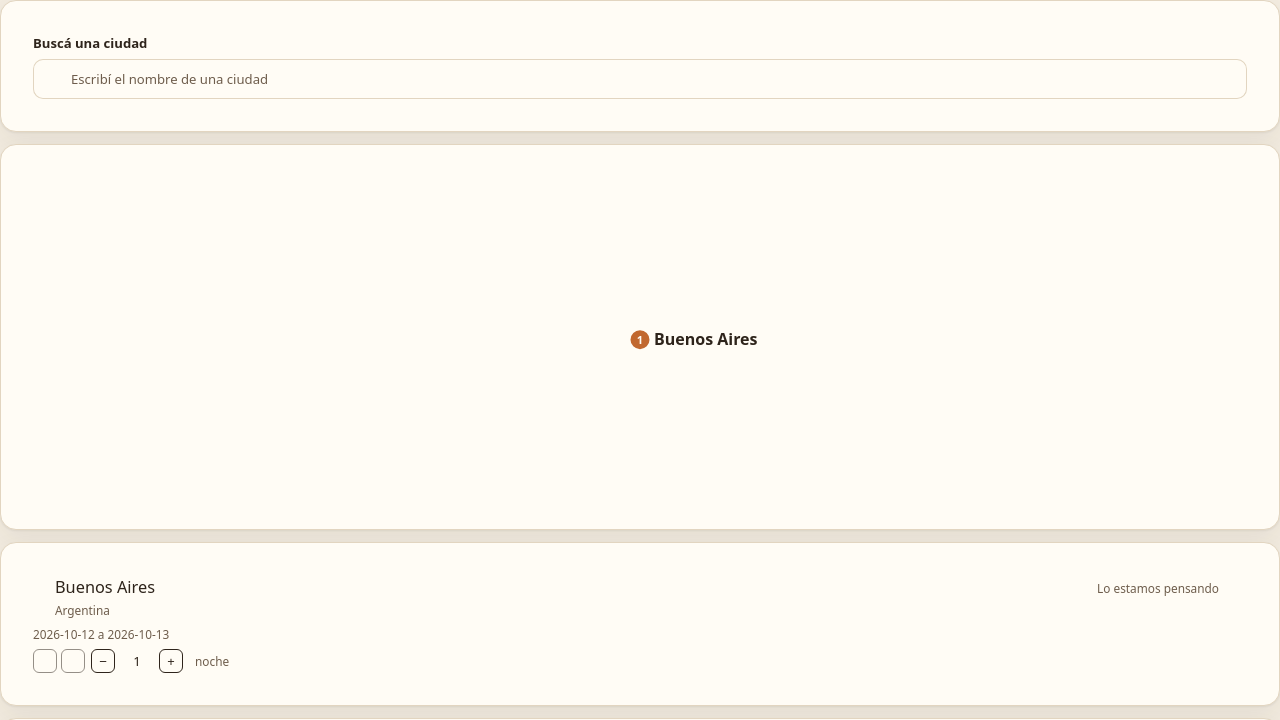
Test case: RutaPanel › clicking status chip cycles through states
# Click to cycle to "urgent"
Step 1. Click the button "Lo estamos pensando" → (1158, 588), box top-left (1091, 575), bottom-right (1225, 602)
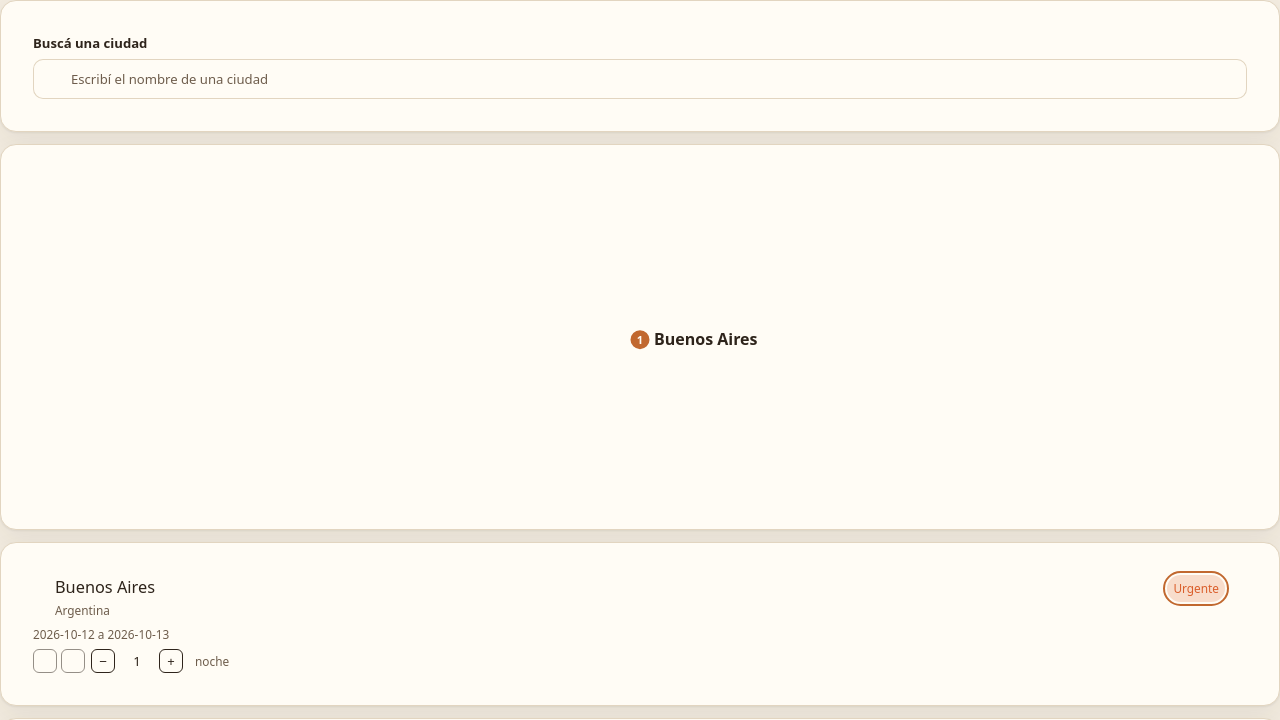
Result: the button "Urgente" is shown
# Click to cycle to "booked"
Step 2. Click the button "Urgente" → (1196, 588), box top-left (1167, 575), bottom-right (1225, 602)
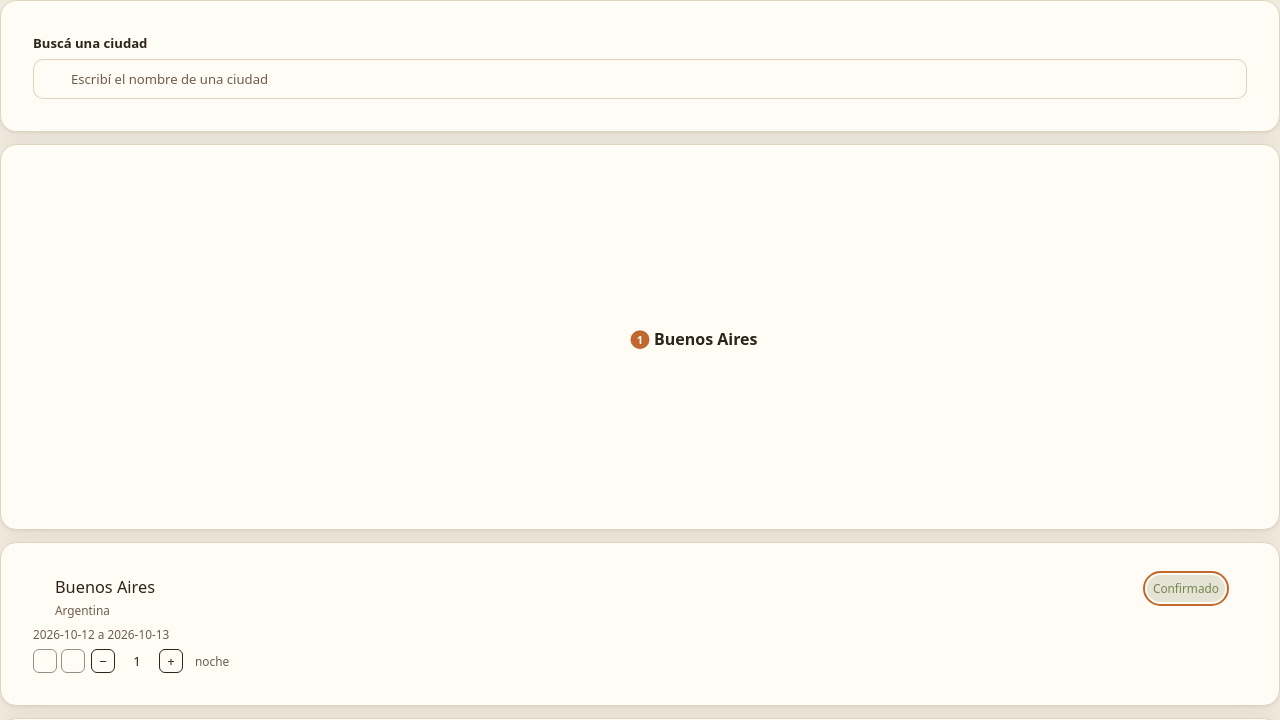
Result: the button "Confirmado" is shown
# Click to cycle back to "thinking"
Step 3. Click the button "Confirmado" → (1186, 588), box top-left (1147, 575), bottom-right (1225, 602)
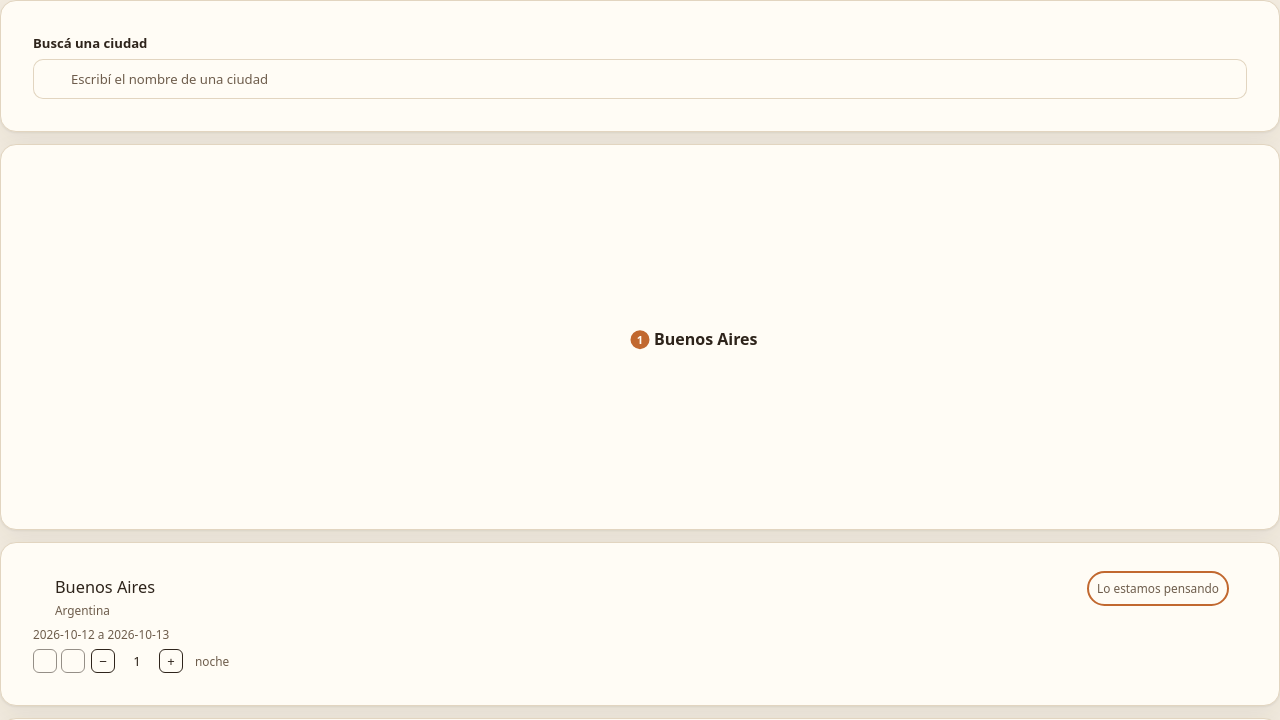
Result: the button "Lo estamos pensando" is shown at top-left (1091, 575), bottom-right (1225, 602)
